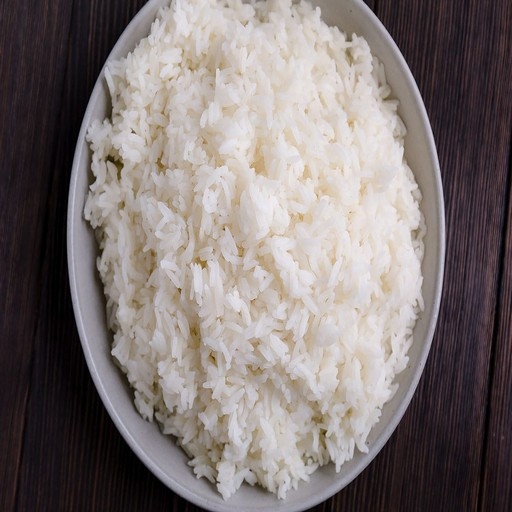rice: (153, 61, 343, 420)
